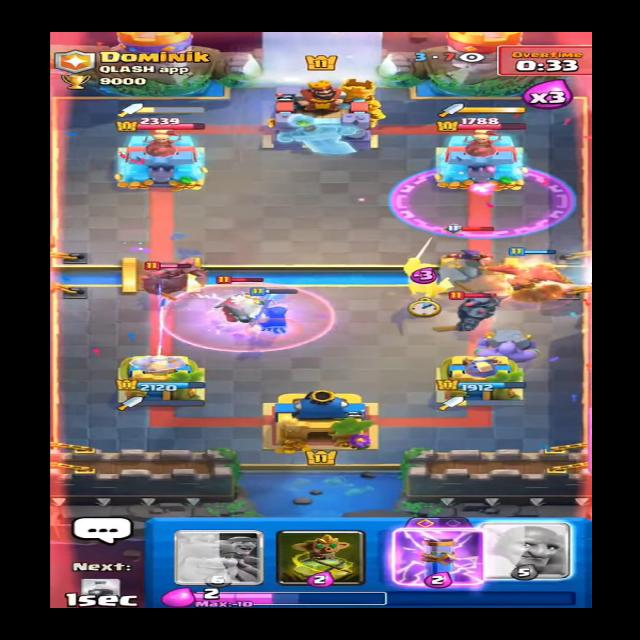Evowizard: (436, 226, 502, 266)
Pekka: (137, 253, 211, 299), (434, 290, 513, 332)
Royalghost: (200, 276, 272, 328)
